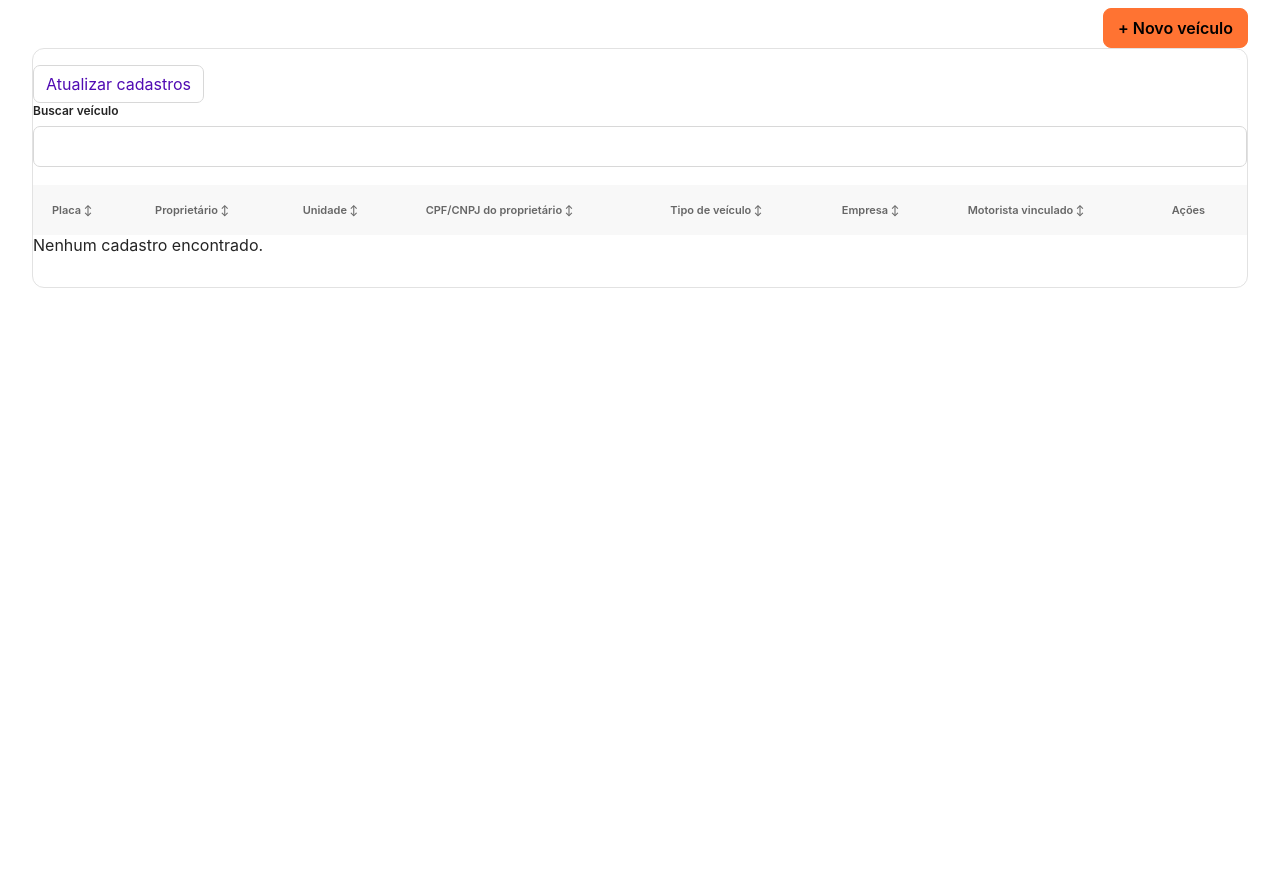
it: abre veículo com proprietário, tipo e empresa, sem rateio
Expected: the text "Nenhum cadastro encontrado." is shown, x1=33 y1=235 x2=263 y2=255
Click the button "+ Novo veículo" at (1176, 28), box x1=1103 y1=8 x2=1248 y2=48
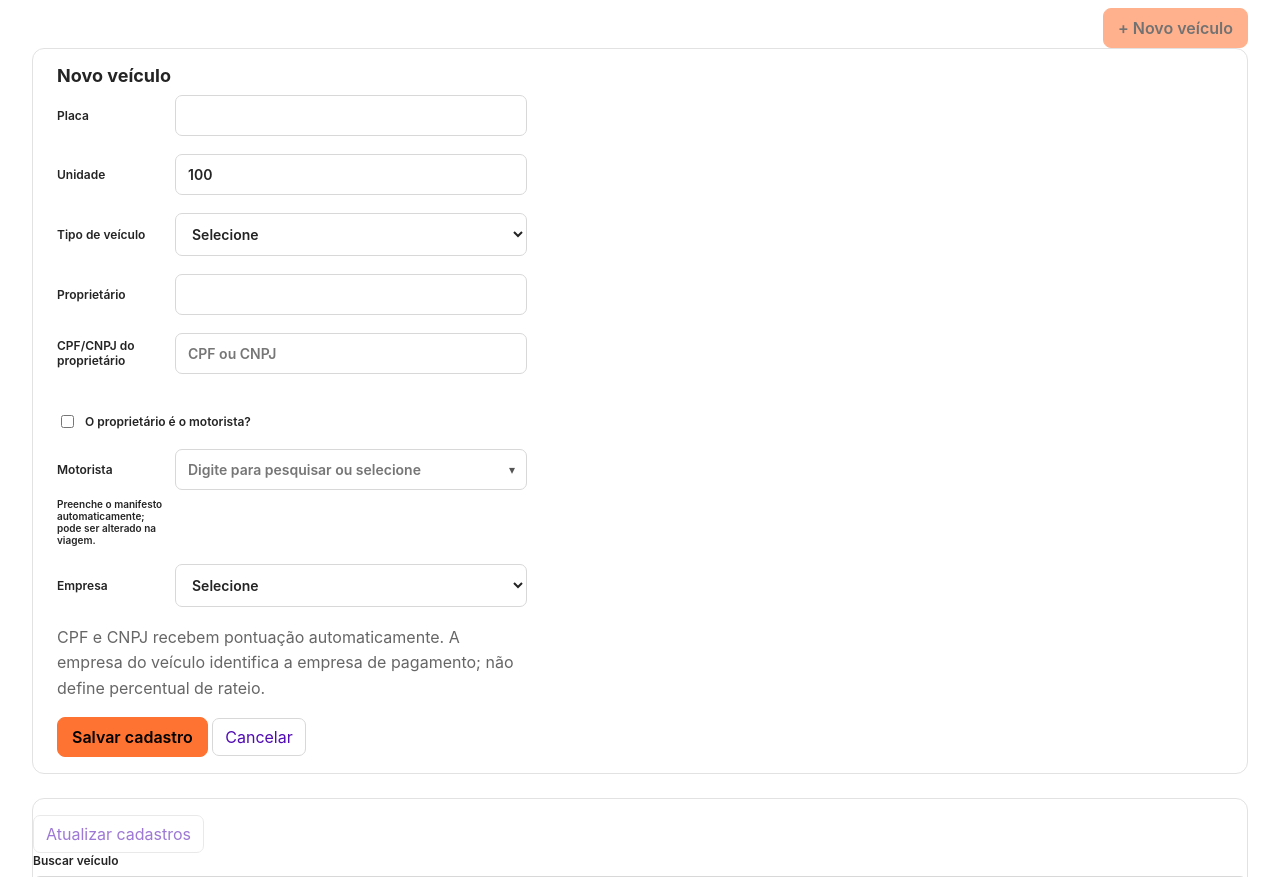
Result: the dropdown labelled "Empresa" is shown at x1=175 y1=564 x2=527 y2=607
Result: the field labelled "CPF/CNPJ do proprietário" is shown at x1=175 y1=333 x2=527 y2=374
